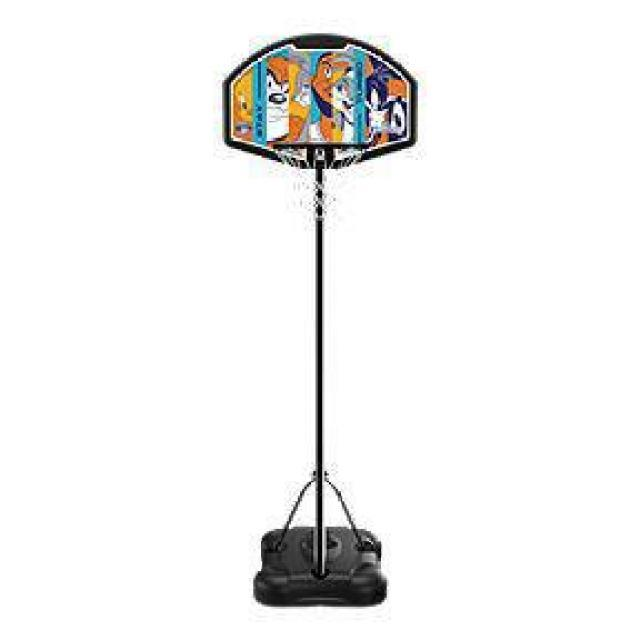hoop: (273, 142, 371, 221)
